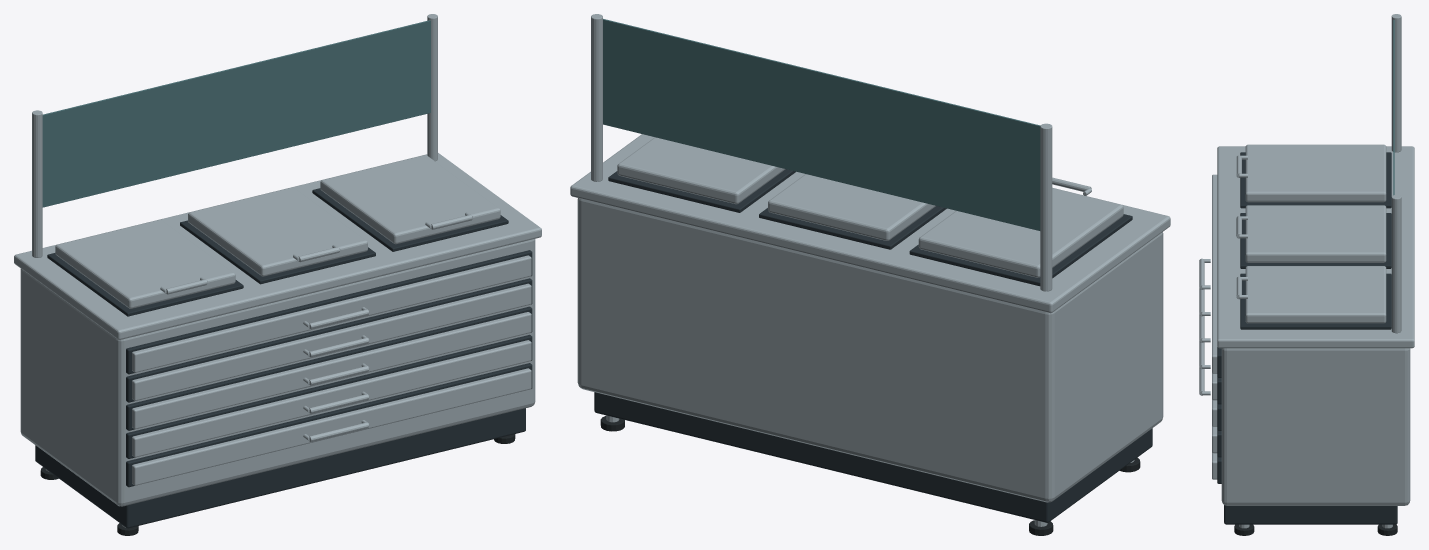
Rendered from RD_MealPreparation.fbx.
The picture shows the model from 3 angles, left to right: view 1: azimuth 30°, elevation 25°; view 2: azimuth 150°, elevation 25°; view 3: azimuth 270°, elevation 25°; orthographic projection. The views are drawn at different scales.
Visible parts, largest first — view 1: RD_MealPreparation; view 2: RD_MealPreparation; view 3: RD_MealPreparation.
Boxes of the visible parts, x1,y1,x2,y2 form: RD_MealPreparation: [14, 14, 541, 535]; RD_MealPreparation: [570, 14, 1170, 535]; RD_MealPreparation: [1199, 14, 1414, 535].
Size of the model in its own units: 183 by 149 by 85.65.
